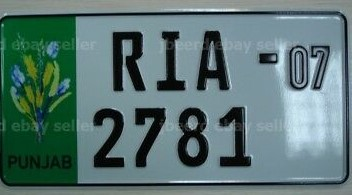0: (286, 43, 310, 91)
1: (217, 104, 254, 169)
2: (90, 106, 129, 170)
7: (133, 105, 169, 170), (310, 43, 329, 91)
8: (173, 106, 213, 168)
A: (193, 29, 236, 95)
I: (156, 29, 189, 95)
R: (110, 30, 149, 94)
